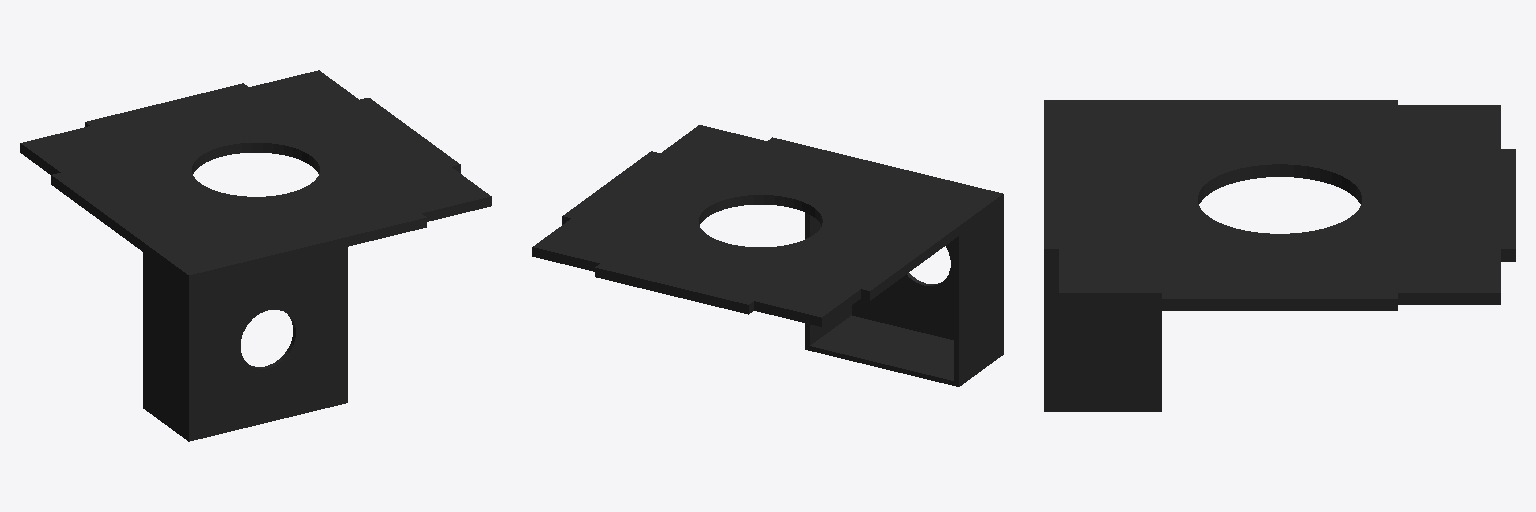
robot.urdf — target_box:
<?xml version="1.0" ?>
<robot name="target_box">
  <material name="gray">
      <color rgba="0.2 0.2 0.2 1.0"/>
  </material>

  <link concave="yes" name="base_link">
    <inertial>
      <origin rpy="0 0 0" xyz="0 0 0"/>
      <mass value="1.0"/>
      <inertia
        ixx="1"
        ixy="0"
        ixz="0"
        iyy="1"
        iyz="0"
        izz="1"/>
    </inertial>
    <visual>
      <origin rpy="0 0 0" xyz="0 0 0"/>
      <geometry>
        <mesh filename="meshes/hezi.stl" scale="1.0 1.0 1.0"/>
      </geometry>
      <material name="gray"/>
    </visual>
    <collision concave="yes">
      <origin rpy="0 0 0" xyz="0 0 0"/>
      <geometry>
        <mesh filename="meshes/hezi.stl" scale="1.0 1.0 1.0"/>
      </geometry>
    </collision>
  </link>

  <joint name="base_to_cover" type="fixed">
      <parent link="base_link"/>
      <child link="cover"/>
      <origin xyz="0 0 0.094"/>
  </joint>

  <link concave="yes" name="cover">
    <inertial>
      <origin rpy="0 0 0" xyz="0 0 0"/>
      <mass value="1.0"/>
      <inertia ixx="1" ixy="0" ixz="0" iyy="1" iyz="0" izz="1"/>
    </inertial>
    <visual>
      <origin rpy="0 0 0" xyz="0 0 0"/>
      <geometry>
        <mesh filename="meshes/box_cover.stl" scale=".002 .002 .002"/>
      </geometry>
      <material name="gray"/>
    </visual>
    <collision concave="yes">
      <origin rpy="0 0 0" xyz="0 0 0"/>
      <geometry>
        <mesh filename="meshes/box_cover.stl" scale=".001 .001 .001"/>
      </geometry>
    </collision>
  </link>
</robot>

--- Render facts (derived) ---
3 views of the same robot in one strip: view 1: azimuth 30°, elevation 25°; view 2: azimuth 150°, elevation 25°; view 3: azimuth 270°, elevation 25° (orthographic).
Model target_box with 2 links and 1 joints (1 fixed), rooted at base_link, posed all joints at 0.
Visible links, largest first — view 1: cover, base_link; view 2: cover, base_link; view 3: cover, base_link.
Boxes of the visible links, left/top/right/bottom form: cover: left=20, top=70, right=491, bottom=268; base_link: left=143, top=203, right=347, bottom=441; cover: left=532, top=125, right=963, bottom=326; base_link: left=805, top=156, right=1003, bottom=386; cover: left=1044, top=100, right=1515, bottom=310; base_link: left=1044, top=100, right=1161, bottom=411.
Bounding box of the posed robot: 0.2 × 0.2 × 0.1 m (x, y, z).
Meshes: 2 distinct files referenced, 2 mesh visuals loaded (2 binary STL).
